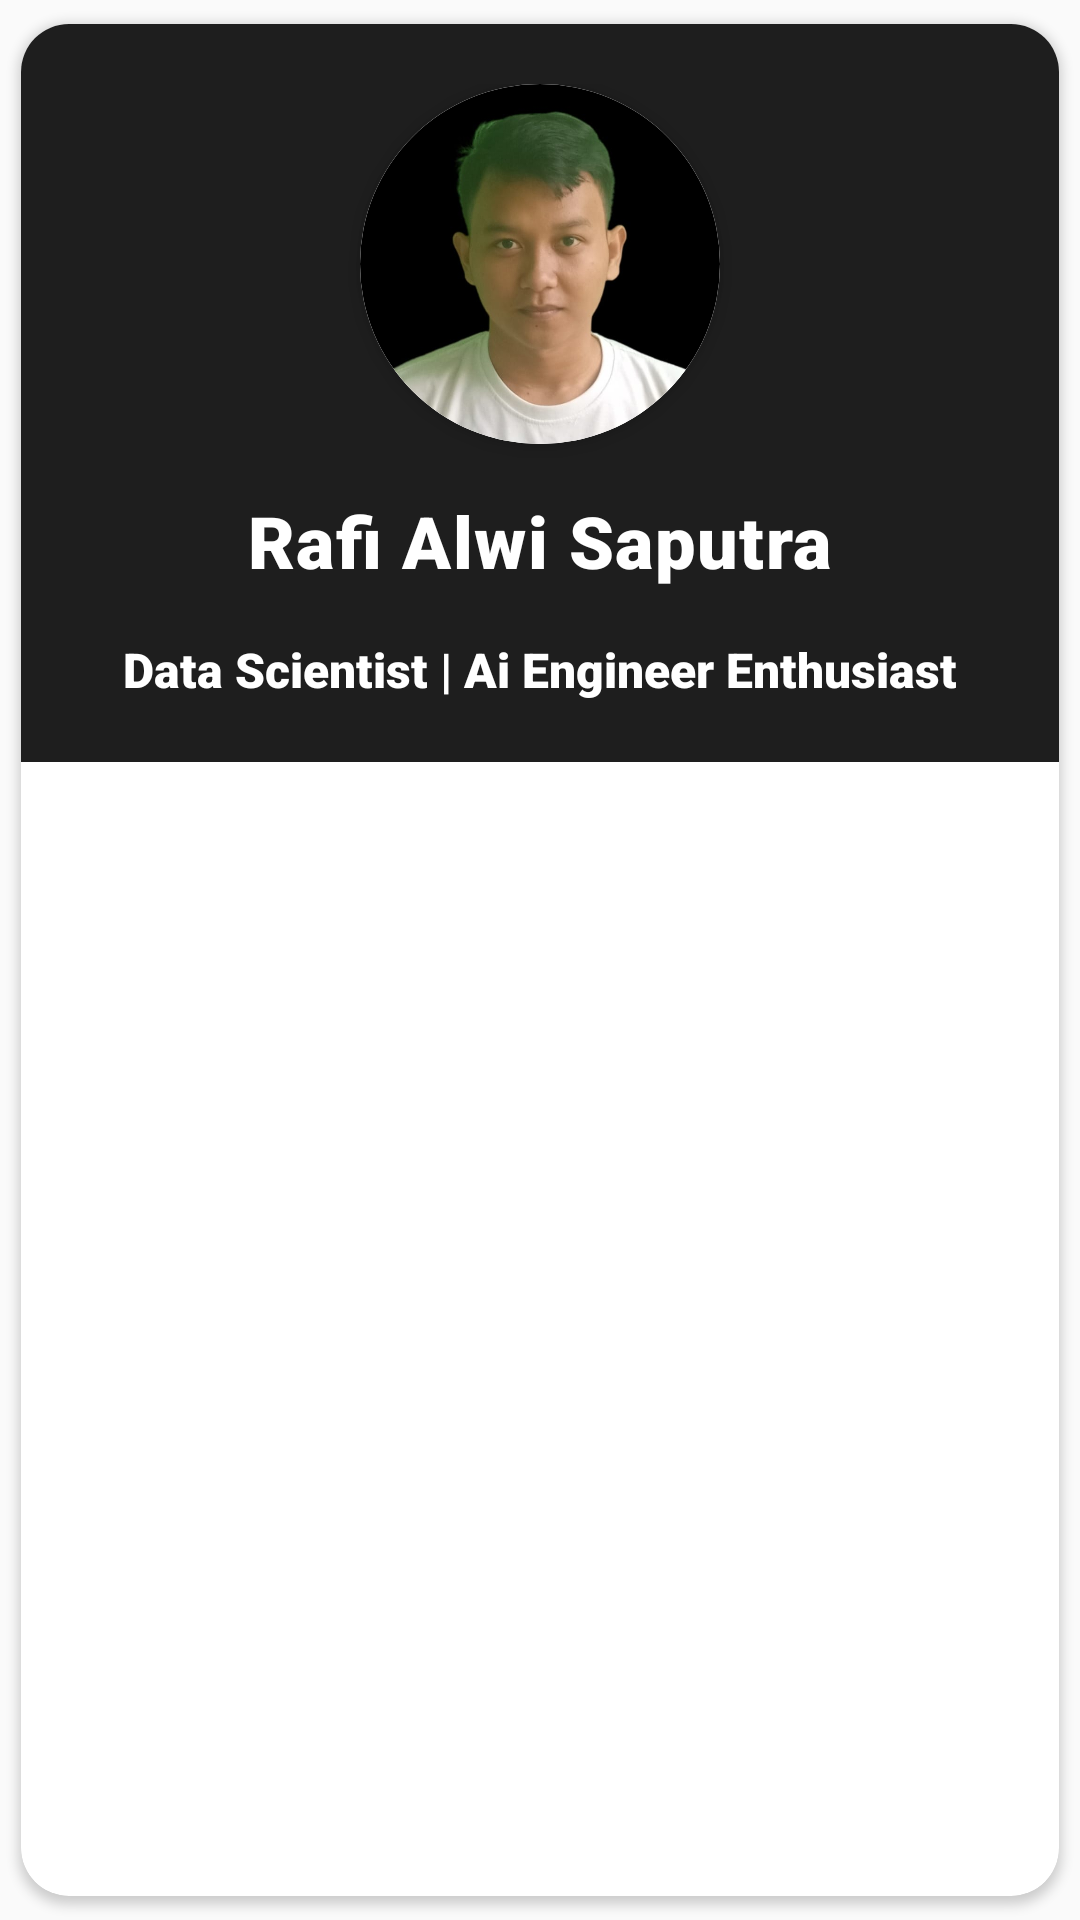

Where to tap for icons on this 1080 × 1920 app screen, as (x=x, y=y):
profile photo: (x=540, y=264)
